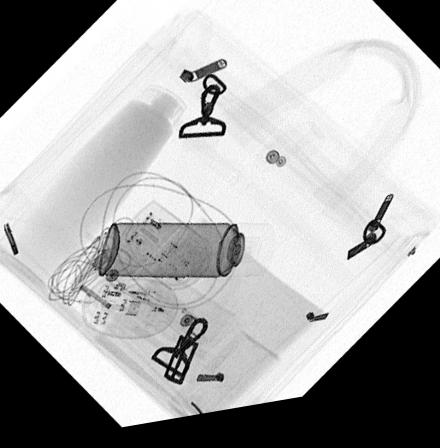Sprayer: (95, 224, 278, 287)
